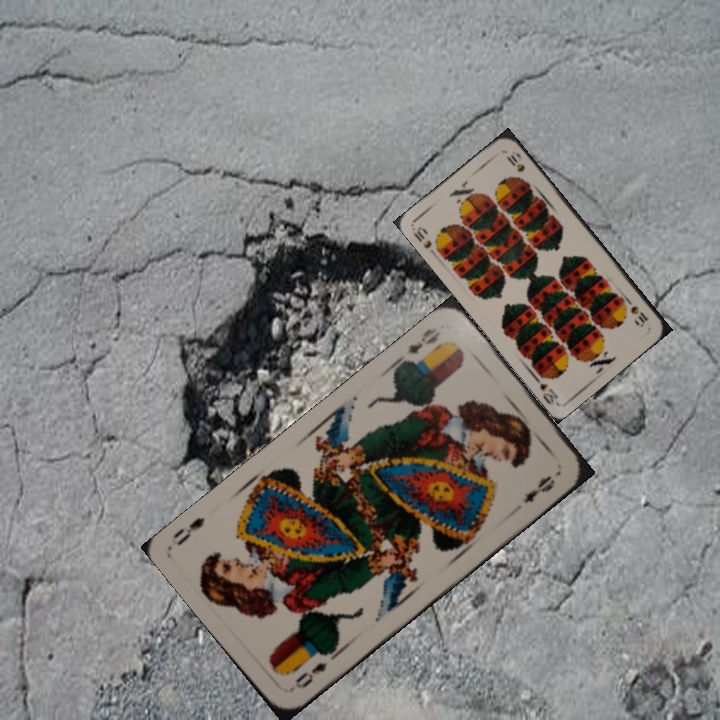EO: (394, 323, 445, 368), (291, 658, 330, 692)
S10: (622, 294, 651, 329), (410, 223, 434, 251)
